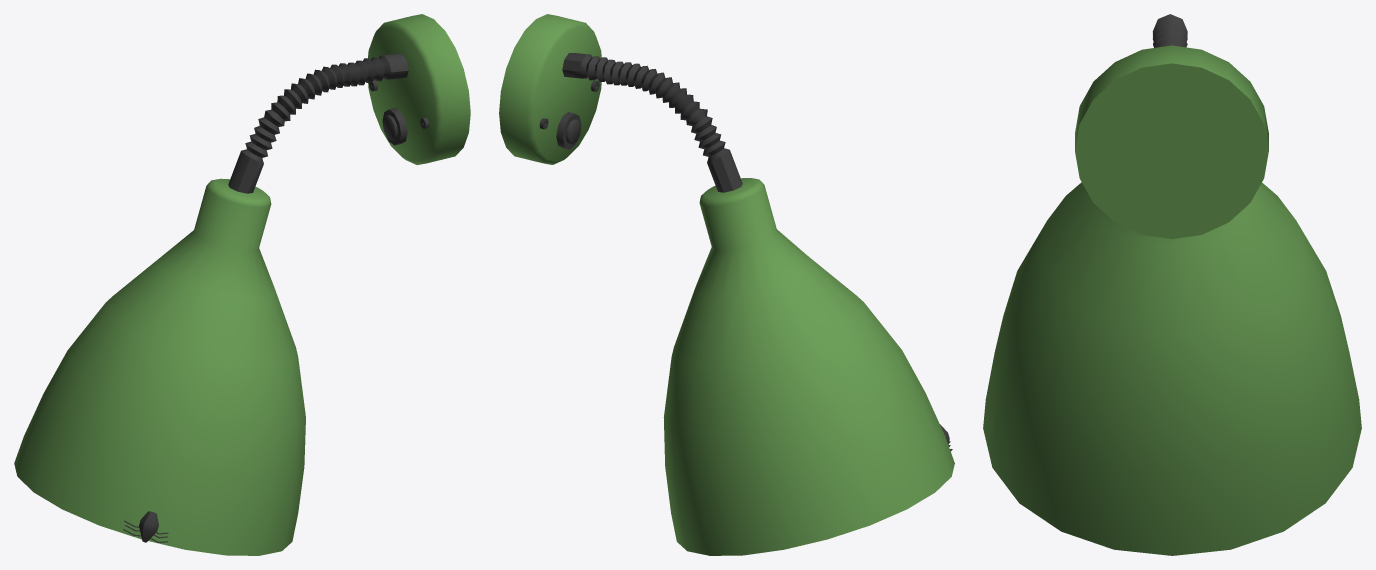
Rendered from MinnenWallReadingLamp.FBX.
The picture shows the model from 3 angles, left to right: view 1: azimuth 30°, elevation 25°; view 2: azimuth 150°, elevation 25°; view 3: azimuth 270°, elevation 25°; orthographic projection. The views are drawn at different scales.
Visible parts, largest first — view 1: MinnenWallReadingLamp; view 2: MinnenWallReadingLamp; view 3: MinnenWallReadingLamp.
Boxes of the visible parts, box(x1,y1,x2,y2) form: MinnenWallReadingLamp: box(14, 14, 470, 555); MinnenWallReadingLamp: box(499, 14, 954, 555); MinnenWallReadingLamp: box(983, 14, 1361, 555).
Size of the model in its own units: 15.8 by 9.9 by 17.16.
